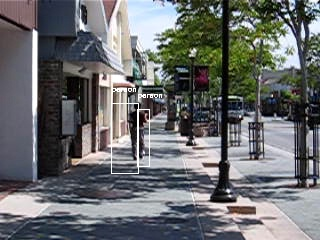person: (129, 103, 148, 160), (128, 103, 147, 160), (130, 103, 149, 160), (129, 102, 148, 159), (129, 104, 148, 161)
target_negative: (238, 91, 295, 222), (161, 42, 266, 94), (171, 186, 313, 218), (122, 97, 141, 187), (219, 116, 246, 138), (311, 180, 312, 209)
